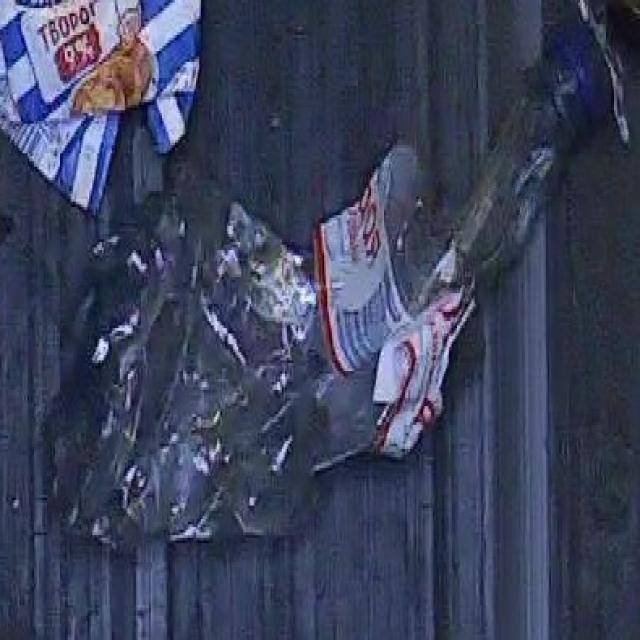litter: (48, 17, 610, 548)
